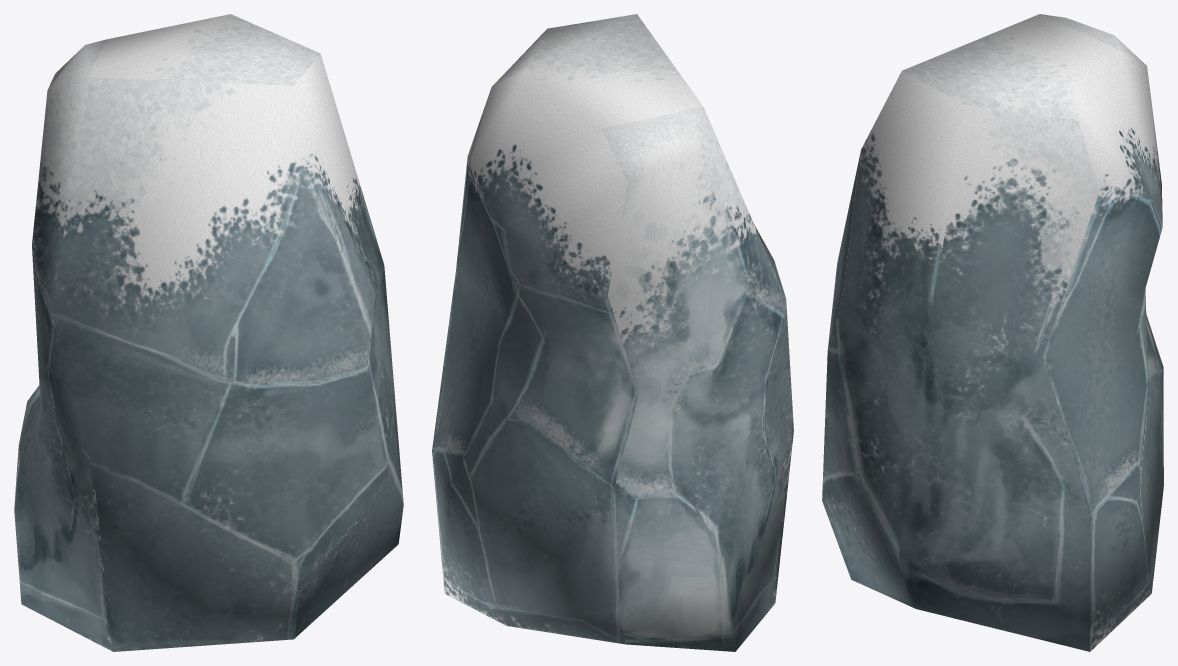
Rendered from rock_8.fbx.
3 views of the same model, side by side, from view 1: azimuth 30°, elevation 25°; view 2: azimuth 150°, elevation 25°; view 3: azimuth 270°, elevation 25° (orthographic).
Parts seen in each view (by area): view 1: rock_8; view 2: rock_8; view 3: rock_8.
Part boxes in pixels (box(x1,y1,x2,y2)): rock_8: box(14, 14, 403, 651); rock_8: box(432, 14, 793, 651); rock_8: box(822, 14, 1163, 651).
Bounding box in the file's own units: 2.3 × 3.88 × 2.24.
